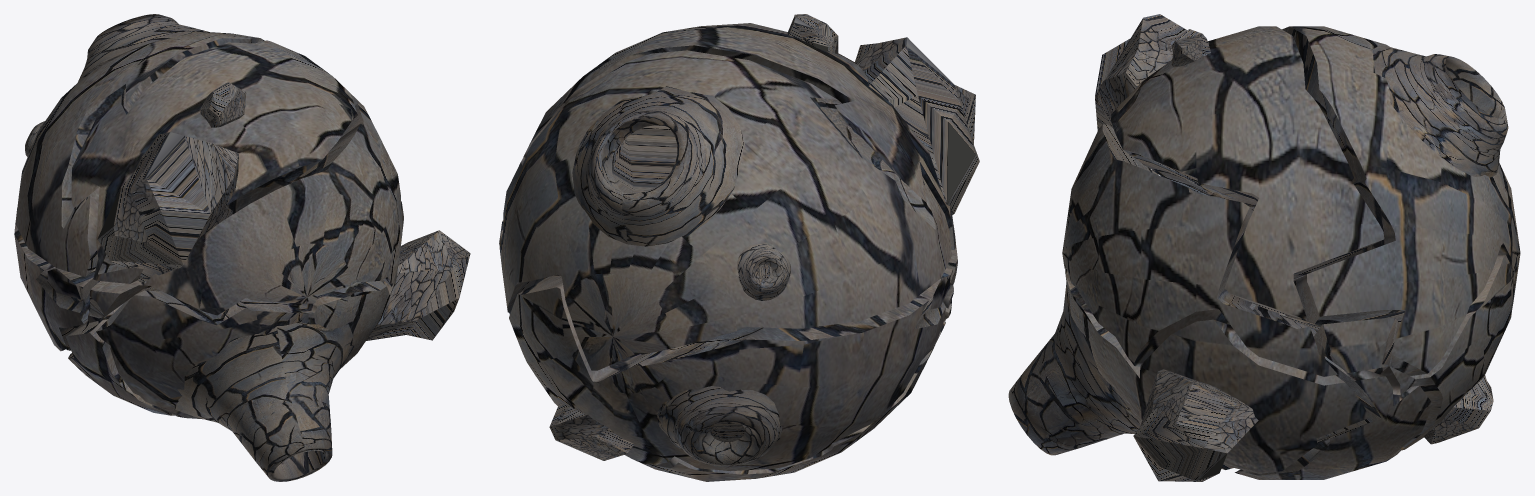
File: Planeta mundus.FBX
3 views of the same model, side by side, from view 1: azimuth 30°, elevation 25°; view 2: azimuth 150°, elevation 25°; view 3: azimuth 270°, elevation 25° (orthographic). The views are drawn at different scales.
Visible parts, largest first — view 1: Fragmento mundo 2, Fragmento mundo 3, Volcan, Fragmento mundo 4, Fragmento mundo 1, Piedra 4, Piedra 5, Fragmento planeta 5, Planeta fragmento 6, Crater 1, Piedra 3, Planeta fragemnto 7; view 2: Fragmento mundo 1, Fragmento planeta 5, Crater 1, Fragmento mundo 2, Piedra 4, Crater 3, Planeta fragmento 6, Piedra 1, Crater 2, Piedra 3; view 3: Fragmento mundo 2, Fragmento mundo 1, Fragmento mundo 3, Fragmento mundo 4, Crater 1, Volcan, Piedra 5, Planeta fragmento 6, Fragmento planeta 5, Piedra 4, Planeta fragmento 8, Piedra 1 (+1 smaller).
Boxes of the visible parts, x1,y1,x2,y2 form: Fragmento mundo 2: (71,40,367,283); Fragmento mundo 3: (144,103,402,315); Volcan: (174,321,355,481); Fragmento mundo 4: (96,201,403,419); Fragmento mundo 1: (15,31,264,276); Piedra 4: (97,132,238,282); Piedra 5: (366,230,470,340); Fragmento planeta 5: (14,208,99,351); Planeta fragmento 6: (65,280,174,415); Crater 1: (78,14,208,81); Piedra 3: (200,82,246,127); Planeta fragemnto 7: (88,280,147,322); Fragmento mundo 1: (499,50,951,370); Fragmento planeta 5: (509,268,952,471); Crater 1: (572,86,744,246); Fragmento mundo 2: (523,23,955,250); Piedra 4: (855,37,979,215); Crater 3: (656,386,782,465); Planeta fragmento 6: (639,321,945,481); Piedra 1: (549,403,634,460); Crater 2: (737,244,790,300); Piedra 3: (787,14,838,54); Fragmento mundo 2: (1111,26,1384,319); Fragmento mundo 1: (1282,26,1520,375); Fragmento mundo 3: (1062,124,1337,376); Fragmento mundo 4: (1065,170,1370,473); Crater 1: (1372,46,1508,177); Volcan: (1008,282,1140,455); Piedra 5: (1133,369,1258,481); Planeta fragmento 6: (1235,306,1432,479); Fragmento planeta 5: (1278,254,1512,450); Piedra 4: (1095,14,1187,166); Planeta fragmento 8: (1313,318,1416,394); Piedra 1: (1423,375,1493,444).
Bounding box in the file's own units: 181 × 160 × 179.
Materials: 1 (1 with a texture image).
